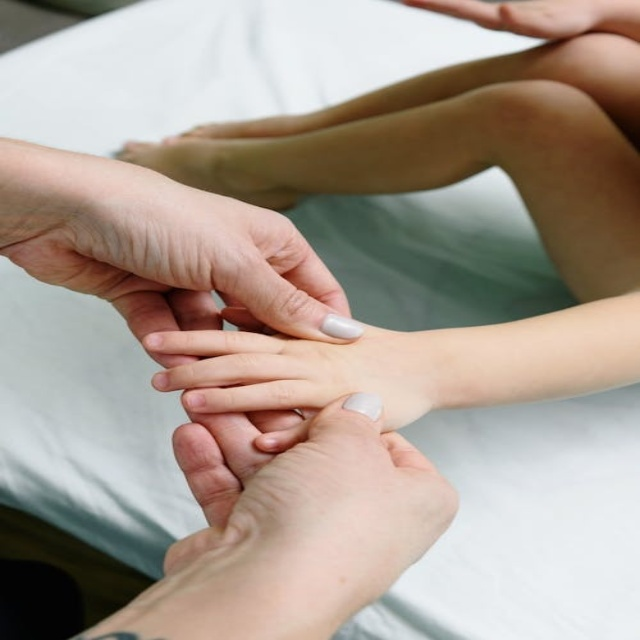Sin_guantes: (119, 382, 476, 608), (3, 133, 362, 348), (147, 317, 445, 442), (389, 0, 632, 46)
